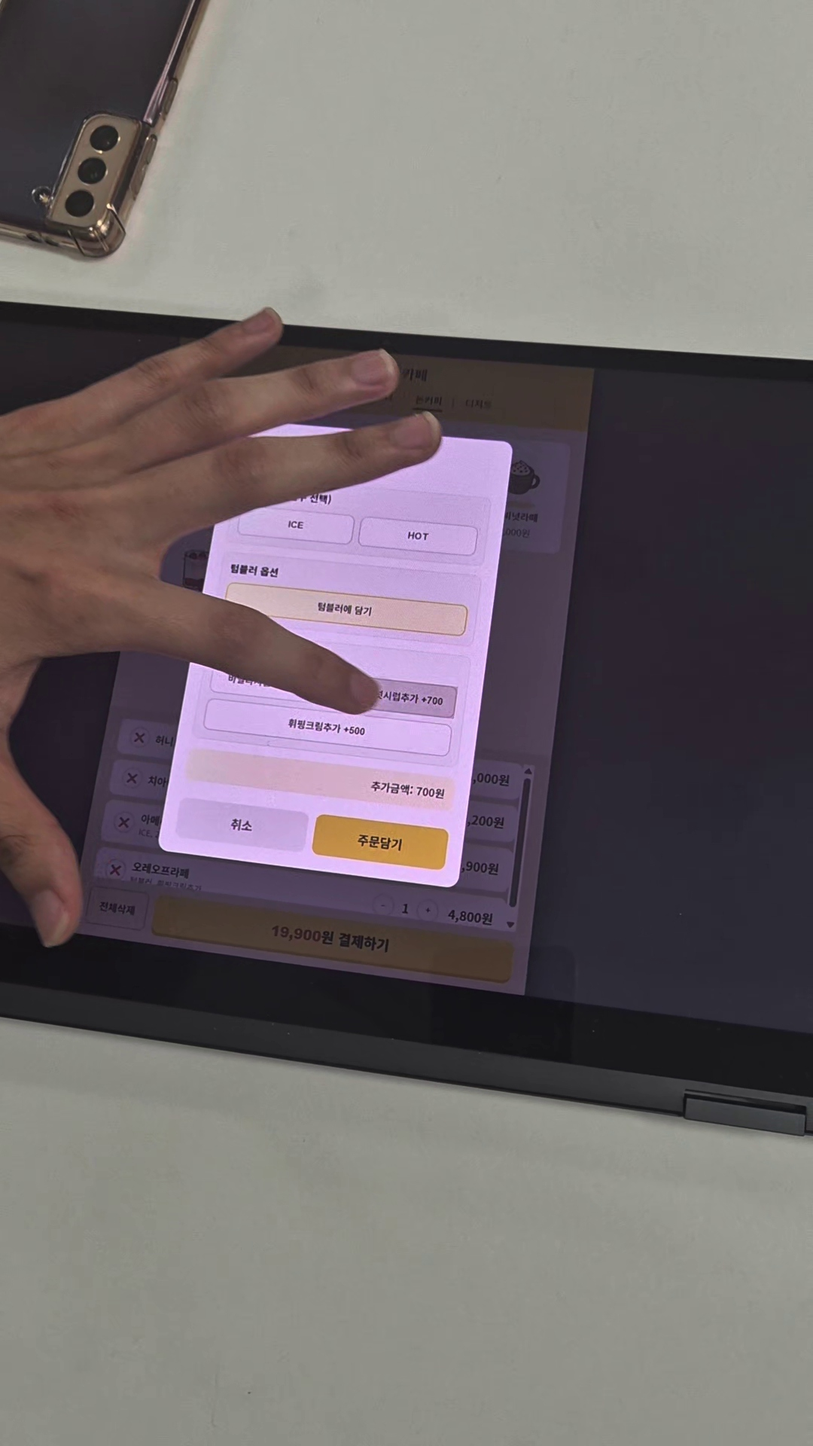action_button: (312, 814, 448, 871), (177, 800, 308, 852)
option_button: (203, 697, 450, 755), (224, 583, 467, 636), (338, 675, 458, 717), (239, 507, 353, 543), (360, 518, 474, 554)
popup_modal: (160, 425, 510, 888)
